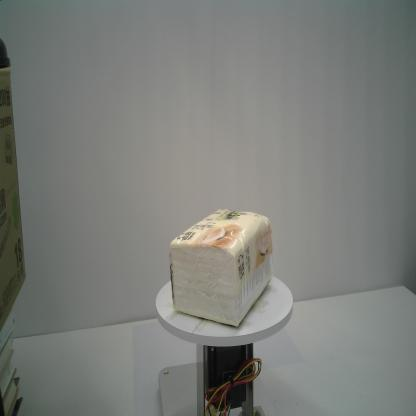Tissue: (169, 209, 274, 327)
